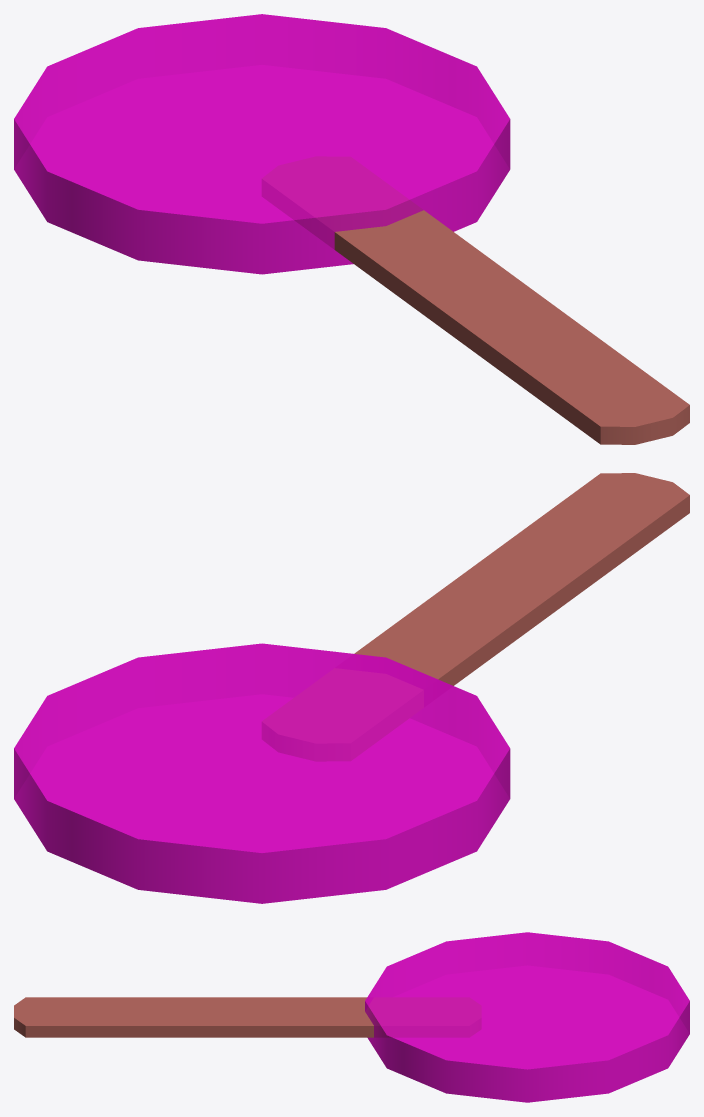
Rendered from candy2.fbx.
The picture shows the model from 3 angles, top to bottom: view 1: azimuth 30°, elevation 25°; view 2: azimuth 150°, elevation 25°; view 3: azimuth 270°, elevation 25°; orthographic projection. The views are drawn at different scales.
Parts seen in each view (by area): view 1: Circle, Base.001; view 2: Circle, Base.001; view 3: Circle, Base.001.
Boxes of the visible parts, x1=… form: Circle: x1=14, y1=14, x2=510, y2=274; Base.001: x1=262, y1=157, x2=689, y2=444; Circle: x1=14, y1=643, x2=510, y2=903; Base.001: x1=262, y1=473, x2=689, y2=760; Circle: x1=365, y1=932, x2=689, y2=1102; Base.001: x1=14, y1=997, x2=480, y2=1037.
Bounding box in the file's own units: 200 × 22.55 × 416.
